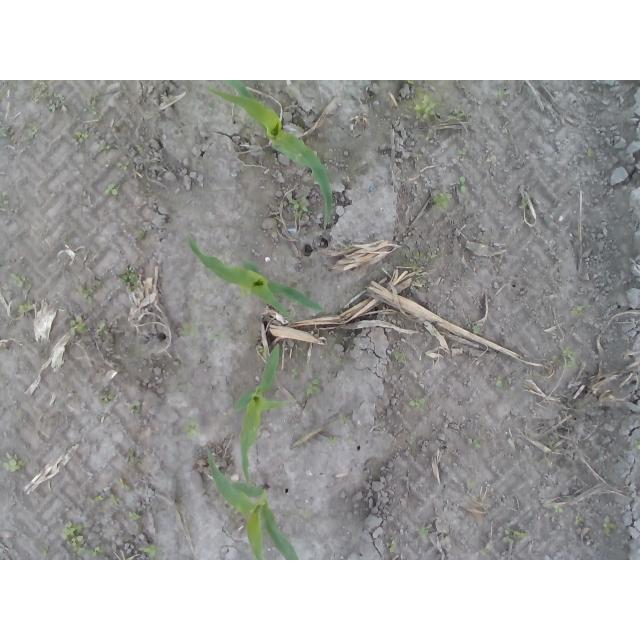Maize: (206, 80, 334, 228), (187, 235, 324, 317), (205, 449, 301, 560), (231, 342, 289, 490)
Weeds: (62, 519, 105, 558), (403, 88, 438, 123), (547, 346, 577, 375), (32, 87, 64, 113), (1, 452, 26, 475), (120, 269, 141, 292), (503, 528, 530, 545), (303, 375, 321, 399), (181, 417, 199, 440), (177, 319, 199, 337), (8, 271, 30, 289), (288, 197, 310, 215), (432, 191, 448, 211), (412, 251, 438, 263), (15, 297, 33, 314), (79, 100, 97, 117), (141, 542, 160, 558), (603, 515, 617, 536), (69, 319, 88, 334), (406, 397, 426, 411), (496, 376, 513, 392), (127, 399, 142, 417), (81, 287, 95, 306), (408, 264, 424, 280), (111, 479, 129, 493), (74, 128, 89, 144), (27, 128, 41, 145), (105, 183, 120, 197), (571, 306, 586, 319), (208, 332, 227, 342), (390, 351, 407, 362), (100, 391, 113, 405), (416, 527, 433, 537), (496, 87, 513, 97), (458, 175, 466, 193), (0, 191, 8, 208), (108, 495, 120, 506), (291, 367, 301, 380), (447, 111, 465, 118), (387, 541, 398, 552), (94, 494, 107, 503), (128, 512, 141, 521), (552, 504, 565, 513), (136, 228, 145, 240), (471, 438, 481, 448), (339, 415, 349, 425), (585, 148, 594, 159), (473, 324, 482, 335), (119, 162, 128, 171), (575, 515, 583, 525), (99, 143, 109, 151), (0, 127, 8, 137), (633, 439, 640, 450), (328, 436, 337, 444), (256, 345, 265, 353), (344, 244, 353, 251), (405, 80, 416, 85)
